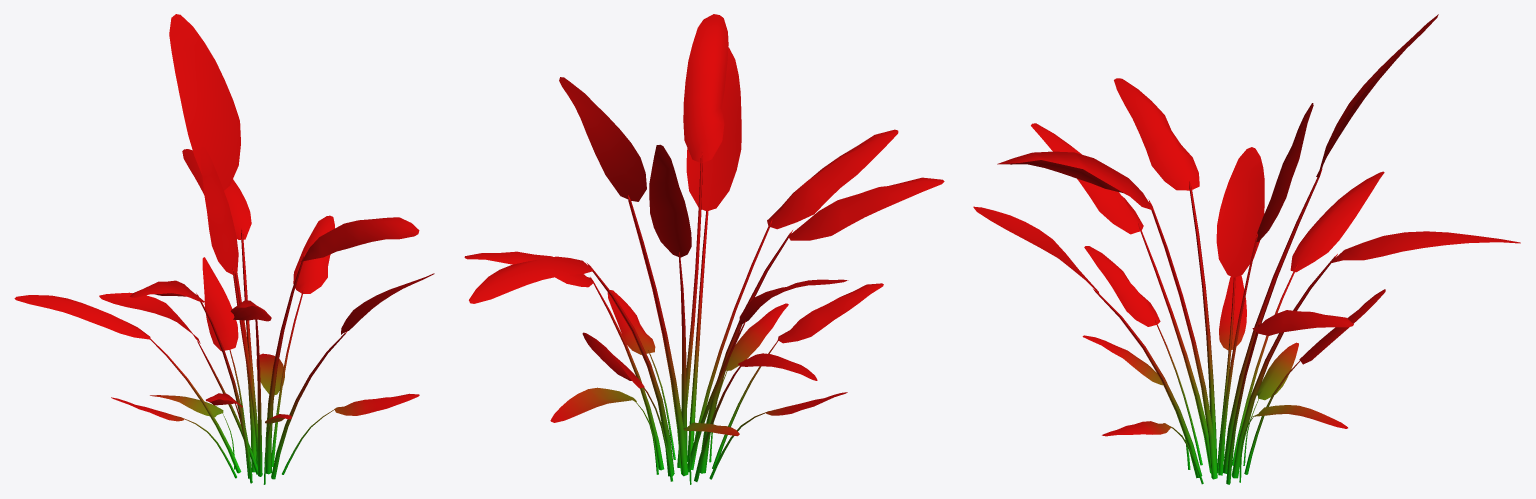
Rendered from Bird Of Paradise_LOD4_Var6_wfypeifha.fbx.
The picture shows the model from 3 angles, left to right: view 1: azimuth 30°, elevation 25°; view 2: azimuth 150°, elevation 25°; view 3: azimuth 270°, elevation 25°; orthographic projection. The views are drawn at different scales.
Visible parts, largest first — view 1: _bs48_Var6_LOD4; view 2: _bs48_Var6_LOD4; view 3: _bs48_Var6_LOD4.
Part boxes in pixels (x1,y1,x2,y2): _bs48_Var6_LOD4: (14,14,434,484); _bs48_Var6_LOD4: (464,14,944,484); _bs48_Var6_LOD4: (973,14,1520,484).
Size of the model in its own units: 146 by 179 by 191.
